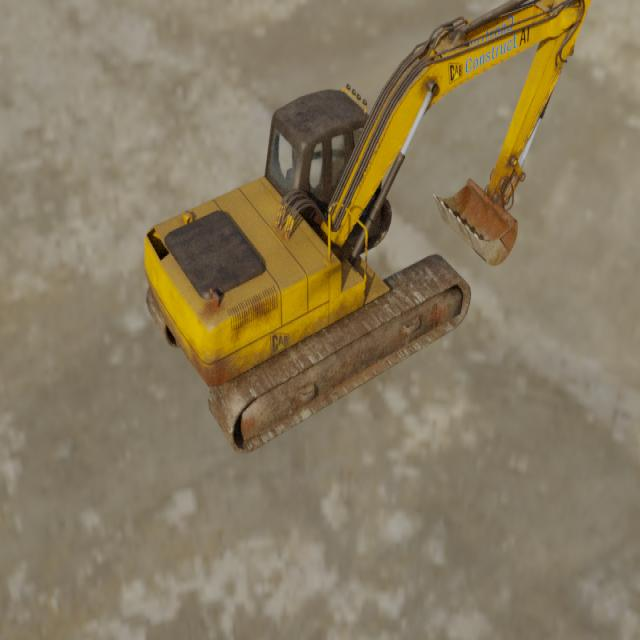excavator: (144, 0, 592, 455)
